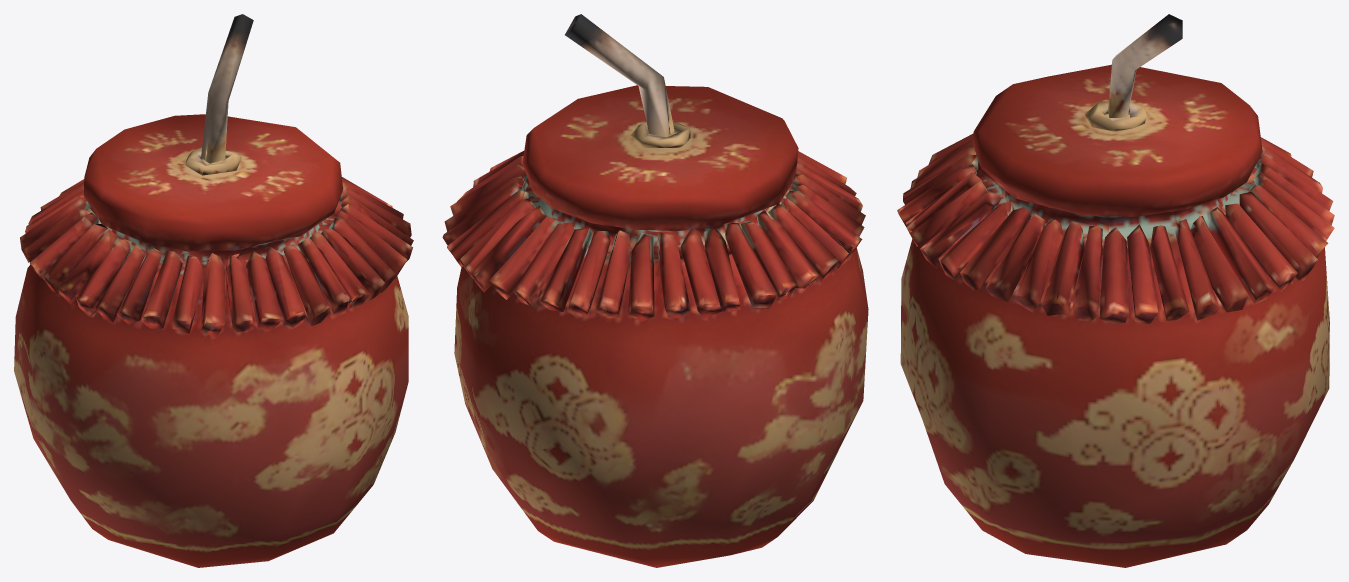
File: powderkeg_celadon_tripo.glb
3 renders of one model, left to right at view 1: azimuth 30°, elevation 25°; view 2: azimuth 150°, elevation 25°; view 3: azimuth 270°, elevation 25°, orthographic. The views are drawn at different scales.
Parts seen in each view (by area): view 1: powderkeg_celadon; view 2: powderkeg_celadon; view 3: powderkeg_celadon.
Part boxes in pixels (left/top/right/bottom): powderkeg_celadon: left=14, top=14, right=413, bottom=567; powderkeg_celadon: left=442, top=14, right=868, bottom=567; powderkeg_celadon: left=897, top=14, right=1334, bottom=567.
Bounding box in the file's own units: 0.3169 × 0.4307 × 0.3085.
Materials: 1 (1 with a texture image).
